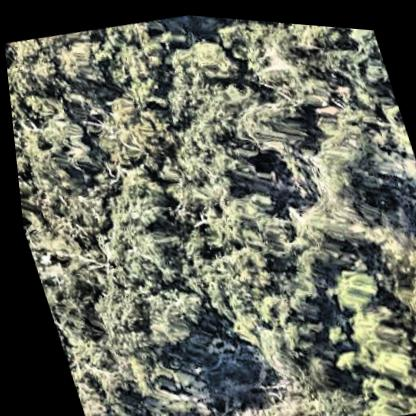tree-top: (157, 177, 323, 366), (70, 261, 203, 371), (287, 122, 382, 231), (78, 86, 180, 175), (328, 282, 413, 370), (88, 159, 173, 235), (376, 217, 416, 373), (271, 344, 354, 416), (225, 90, 304, 155), (313, 252, 382, 315), (27, 107, 94, 171), (45, 32, 108, 95), (281, 18, 347, 52), (3, 42, 28, 129), (223, 14, 305, 32), (323, 340, 358, 374)
